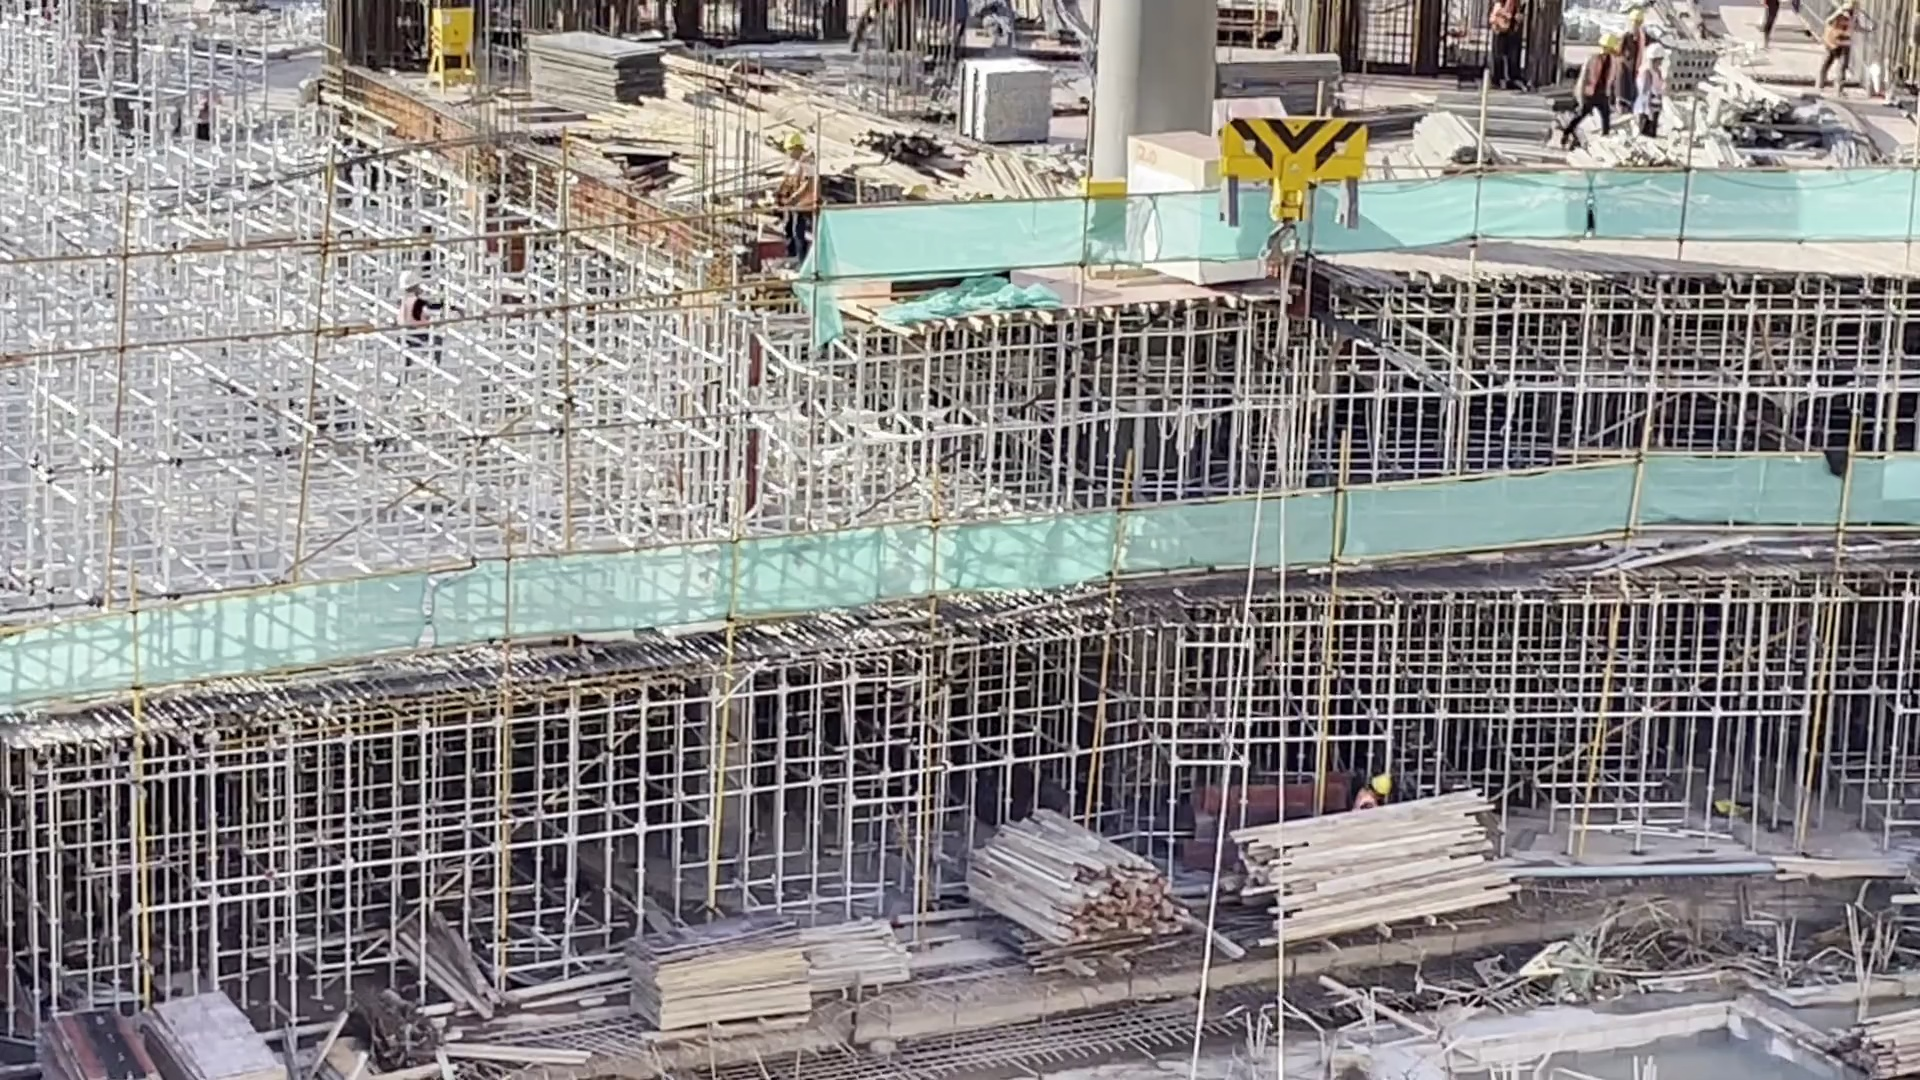board: (632, 908, 823, 1041), (1126, 123, 1275, 290), (515, 26, 673, 119), (149, 989, 279, 1080), (33, 1008, 167, 1080), (1214, 52, 1346, 94), (1209, 96, 1286, 118)
ebox: (419, 2, 478, 95)
helmet: (399, 270, 423, 291), (1371, 775, 1393, 798), (1597, 32, 1618, 48), (1644, 44, 1666, 59), (782, 134, 805, 149), (1628, 9, 1644, 25)
hook: (1213, 115, 1367, 278)
person: (1563, 30, 1619, 147), (1814, 3, 1872, 99), (1484, 2, 1529, 92), (775, 131, 814, 208), (395, 268, 445, 324), (1638, 43, 1666, 138), (1620, 9, 1645, 110), (1353, 772, 1398, 813), (1757, 1, 1782, 56)
scaffold: (954, 54, 1054, 146)
vest: (1581, 52, 1617, 97), (1489, 1, 1524, 34), (1642, 67, 1665, 113)
wood: (1230, 815, 1518, 946), (962, 800, 1186, 949), (1821, 1005, 1917, 1080), (1407, 108, 1479, 163)
